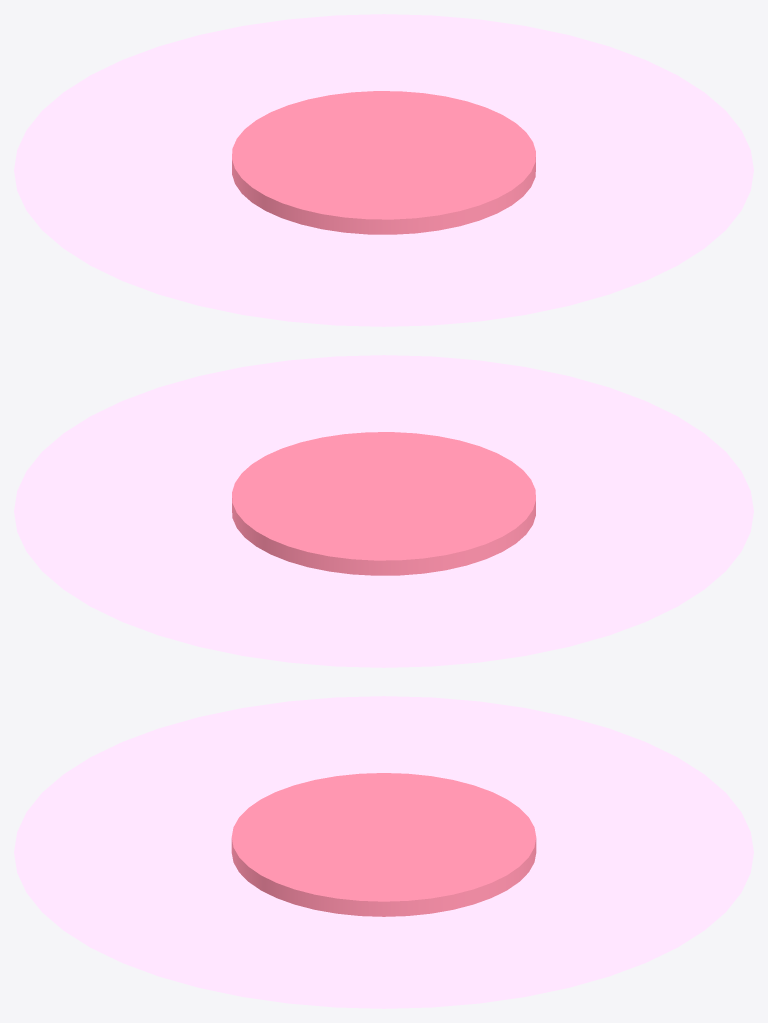
The model's file is pad-ff4d6d.glb.
3 views of the same model, one above another, from view 1: azimuth 30°, elevation 25°; view 2: azimuth 150°, elevation 25°; view 3: azimuth 270°, elevation 25° (orthographic).
Visible parts, largest first — view 1: plat; view 2: plat; view 3: plat.
Part boxes in pixels (<box>): plat: <box>14,14,753,326</box>; plat: <box>14,355,753,667</box>; plat: <box>14,696,753,1008</box>.
Bounding box in the file's own units: 3.4 × 0.08 × 3.4.
2 materials, 2 textured.
